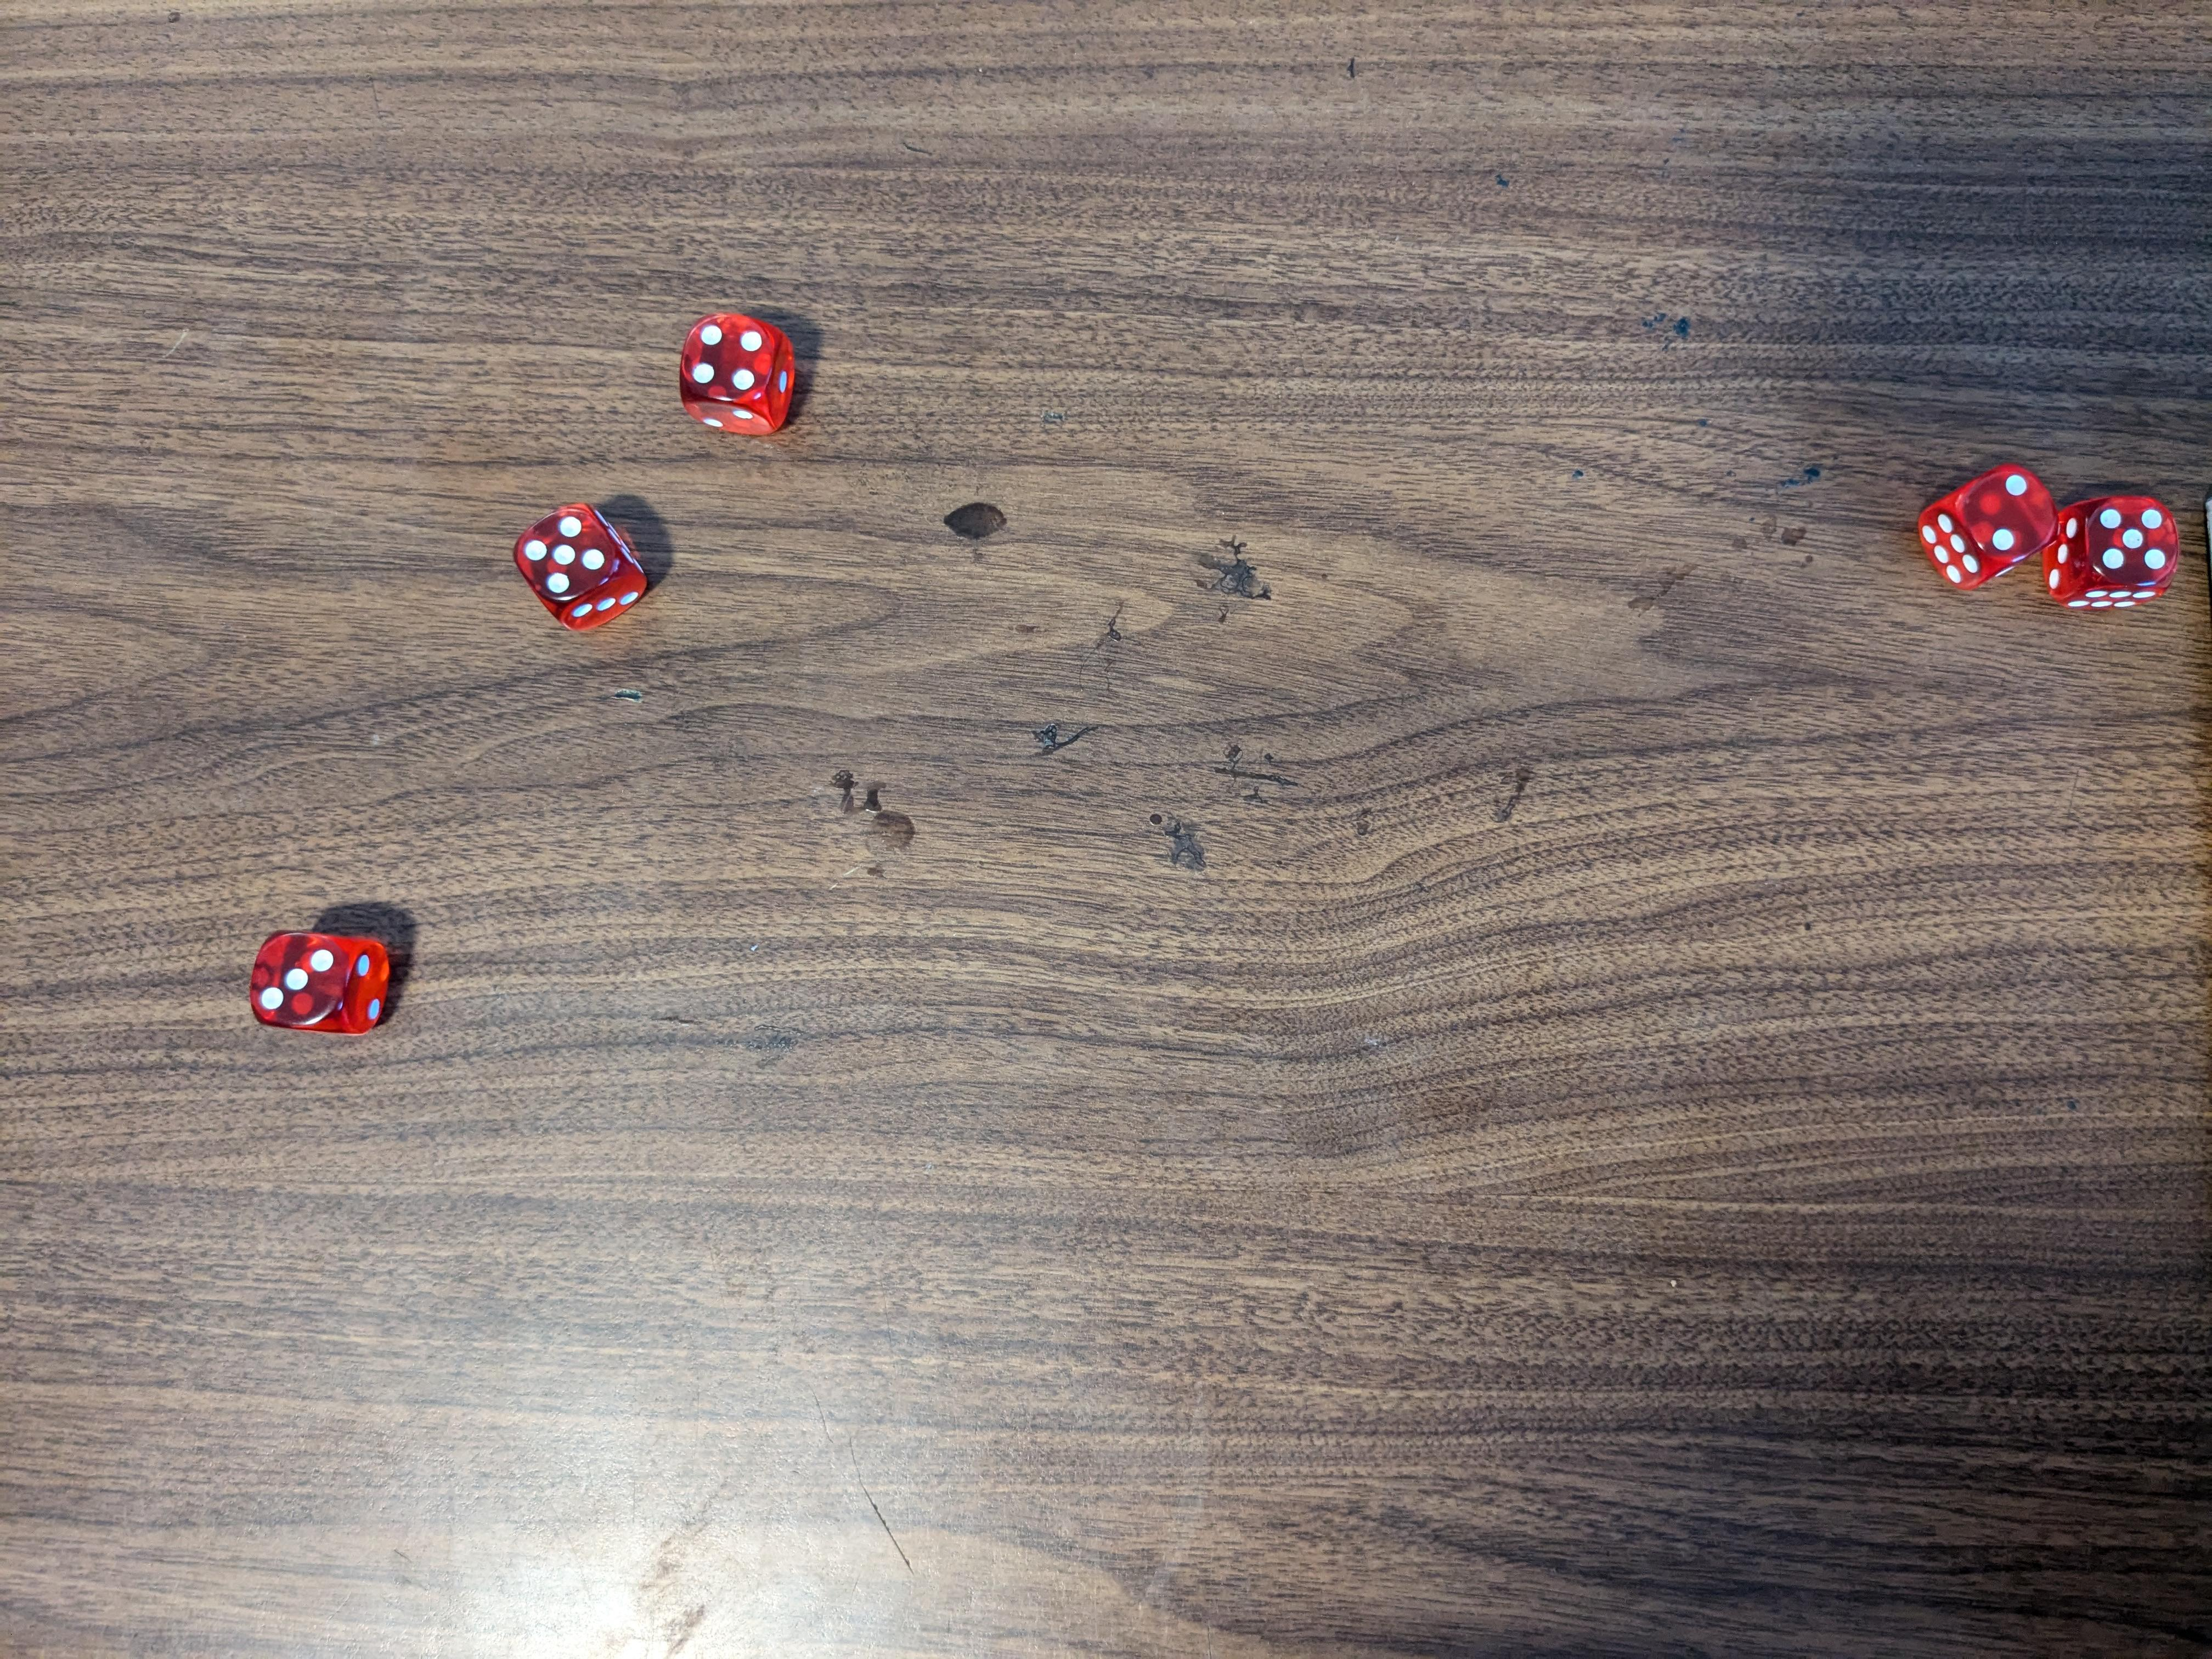five: (2050, 477, 2188, 608), (510, 504, 650, 622)
four: (671, 310, 801, 437)
three: (246, 924, 395, 1037)
two: (1919, 451, 2059, 591)
